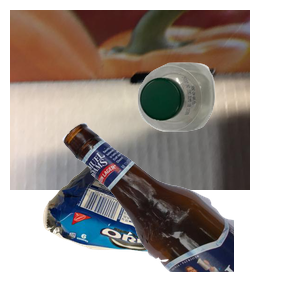cardboard: (10, 10, 250, 190)
glass: (60, 120, 300, 300)
plastic: (135, 60, 300, 184)
trash: (40, 158, 245, 300)
